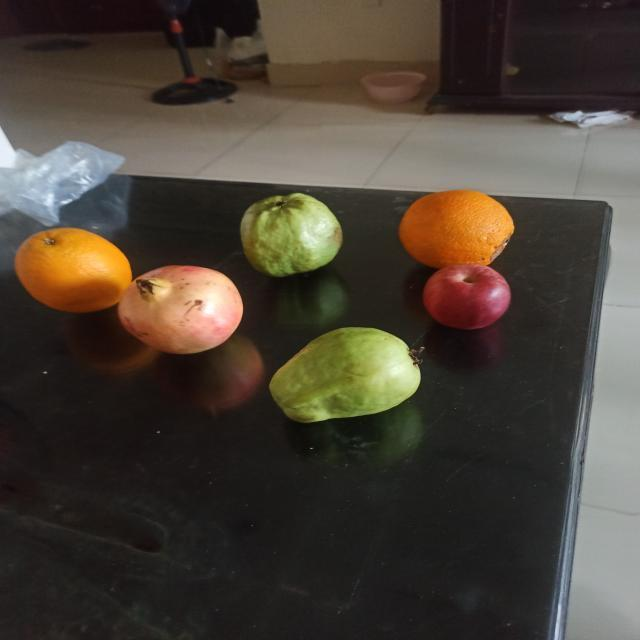apple: (422, 264, 512, 329)
